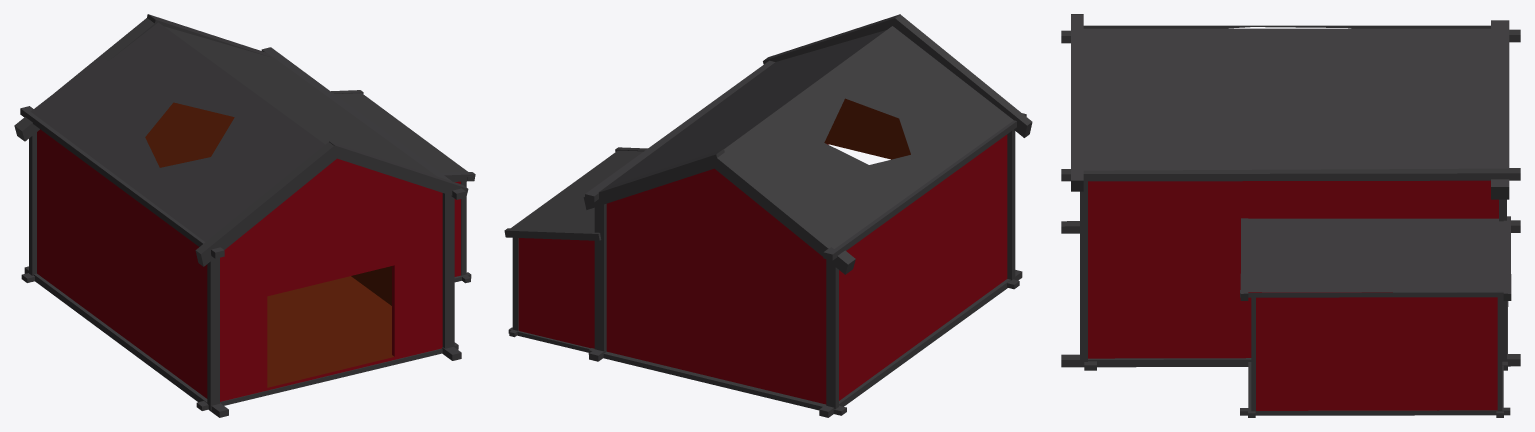
Rendered from ambar.fbx.
3 renders of one model, left to right at view 1: azimuth 30°, elevation 25°; view 2: azimuth 150°, elevation 25°; view 3: azimuth 270°, elevation 25°, orthographic. The views are drawn at different scales.
Parts seen in each view (by area): view 1: Plane; view 2: Plane; view 3: Plane.
Part boxes in pixels (box(x1,y1,x2,y2)): Plane: box(14, 14, 475, 417); Plane: box(504, 14, 1032, 417); Plane: box(1061, 14, 1520, 417).
Size of the model in its own units: 397 by 265 by 388.
